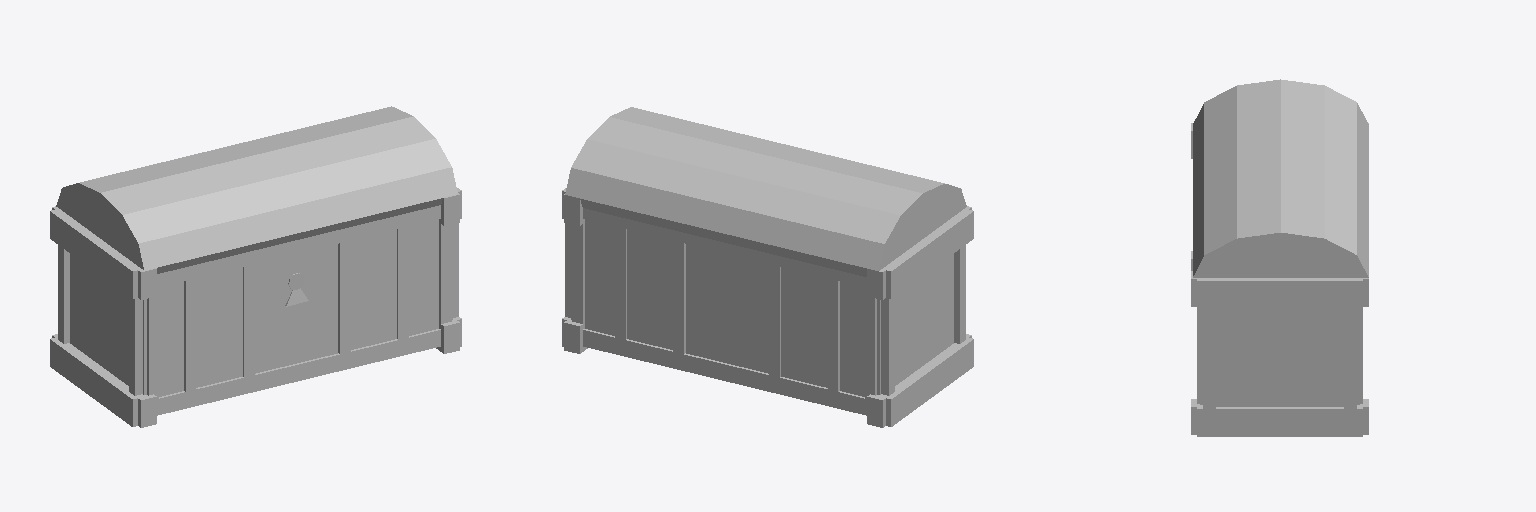
The model's file is Chest.obj.
3 views of the same model, side by side, from view 1: azimuth 30°, elevation 25°; view 2: azimuth 150°, elevation 25°; view 3: azimuth 270°, elevation 25° (orthographic).
Parts seen in each view (by area): view 1: group[number redacted], group[number redacted], group[number redacted], group[number redacted], group[number redacted], group[number redacted], group[number redacted], group[number redacted], group[number redacted], group[number redacted], group[number redacted], group[number redacted] (+5 smaller); view 2: group[number redacted], group[number redacted], group[number redacted], group[number redacted], group[number redacted], group[number redacted], group[number redacted], group[number redacted], group[number redacted], group[number redacted], group[number redacted], group[number redacted] (+5 smaller); view 3: group[number redacted], group[number redacted], group[number redacted], group[number redacted], group[number redacted], group[number redacted].
Part boxes in pixels (left/top/right/bottom): group[number redacted]: left=56, top=106, right=457, bottom=293; group[number redacted]: left=143, top=219, right=452, bottom=396; group[number redacted]: left=70, top=254, right=142, bottom=394; group[number redacted]: left=157, top=329, right=440, bottom=415; group[number redacted]: left=50, top=334, right=156, bottom=427; group[number redacted]: left=157, top=205, right=440, bottom=287; group[number redacted]: left=50, top=206, right=156, bottom=299; group[number redacted]: left=338, top=241, right=350, bottom=353; group[number redacted]: left=184, top=271, right=195, bottom=391; group[number redacted]: left=243, top=256, right=254, bottom=377; group[number redacted]: left=397, top=226, right=408, bottom=339; group[number redacted]: left=439, top=219, right=451, bottom=323; group[number redacted]: left=565, top=107, right=966, bottom=294; group[number redacted]: left=571, top=219, right=880, bottom=396; group[number redacted]: left=583, top=329, right=866, bottom=415; group[number redacted]: left=881, top=254, right=953, bottom=385; group[number redacted]: left=867, top=334, right=973, bottom=427; group[number redacted]: left=867, top=206, right=973, bottom=299; group[number redacted]: left=583, top=208, right=866, bottom=287; group[number redacted]: left=673, top=232, right=685, bottom=353; group[number redacted]: left=828, top=269, right=839, bottom=391; group[number redacted]: left=769, top=254, right=780, bottom=377; group[number redacted]: left=615, top=218, right=626, bottom=339; group[number redacted]: left=881, top=297, right=894, bottom=395; group[number redacted]: left=1193, top=79, right=1368, bottom=277; group[number redacted]: left=1216, top=309, right=1343, bottom=406; group[number redacted]: left=1191, top=271, right=1368, bottom=308; group[number redacted]: left=1191, top=399, right=1368, bottom=436; group[number redacted]: left=1344, top=309, right=1356, bottom=408; group[number redacted]: left=1203, top=309, right=1215, bottom=408.
Size of the model in its own units: 0.62 by 0.3621 by 0.29.